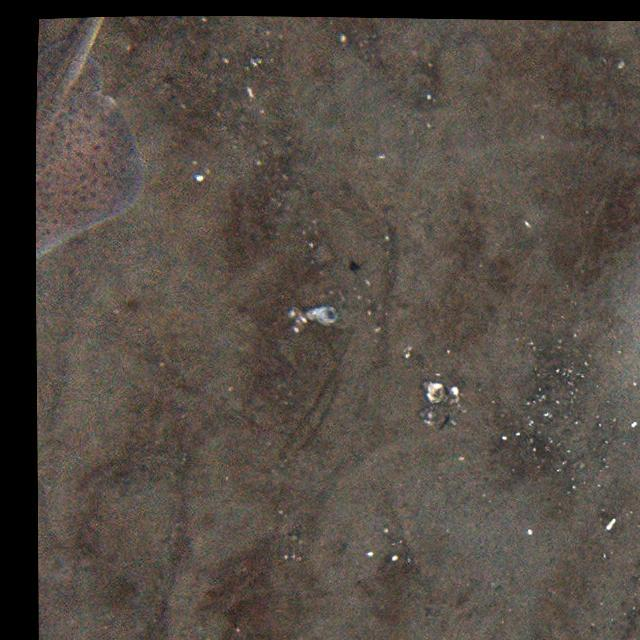skate: (39, 17, 144, 262)
